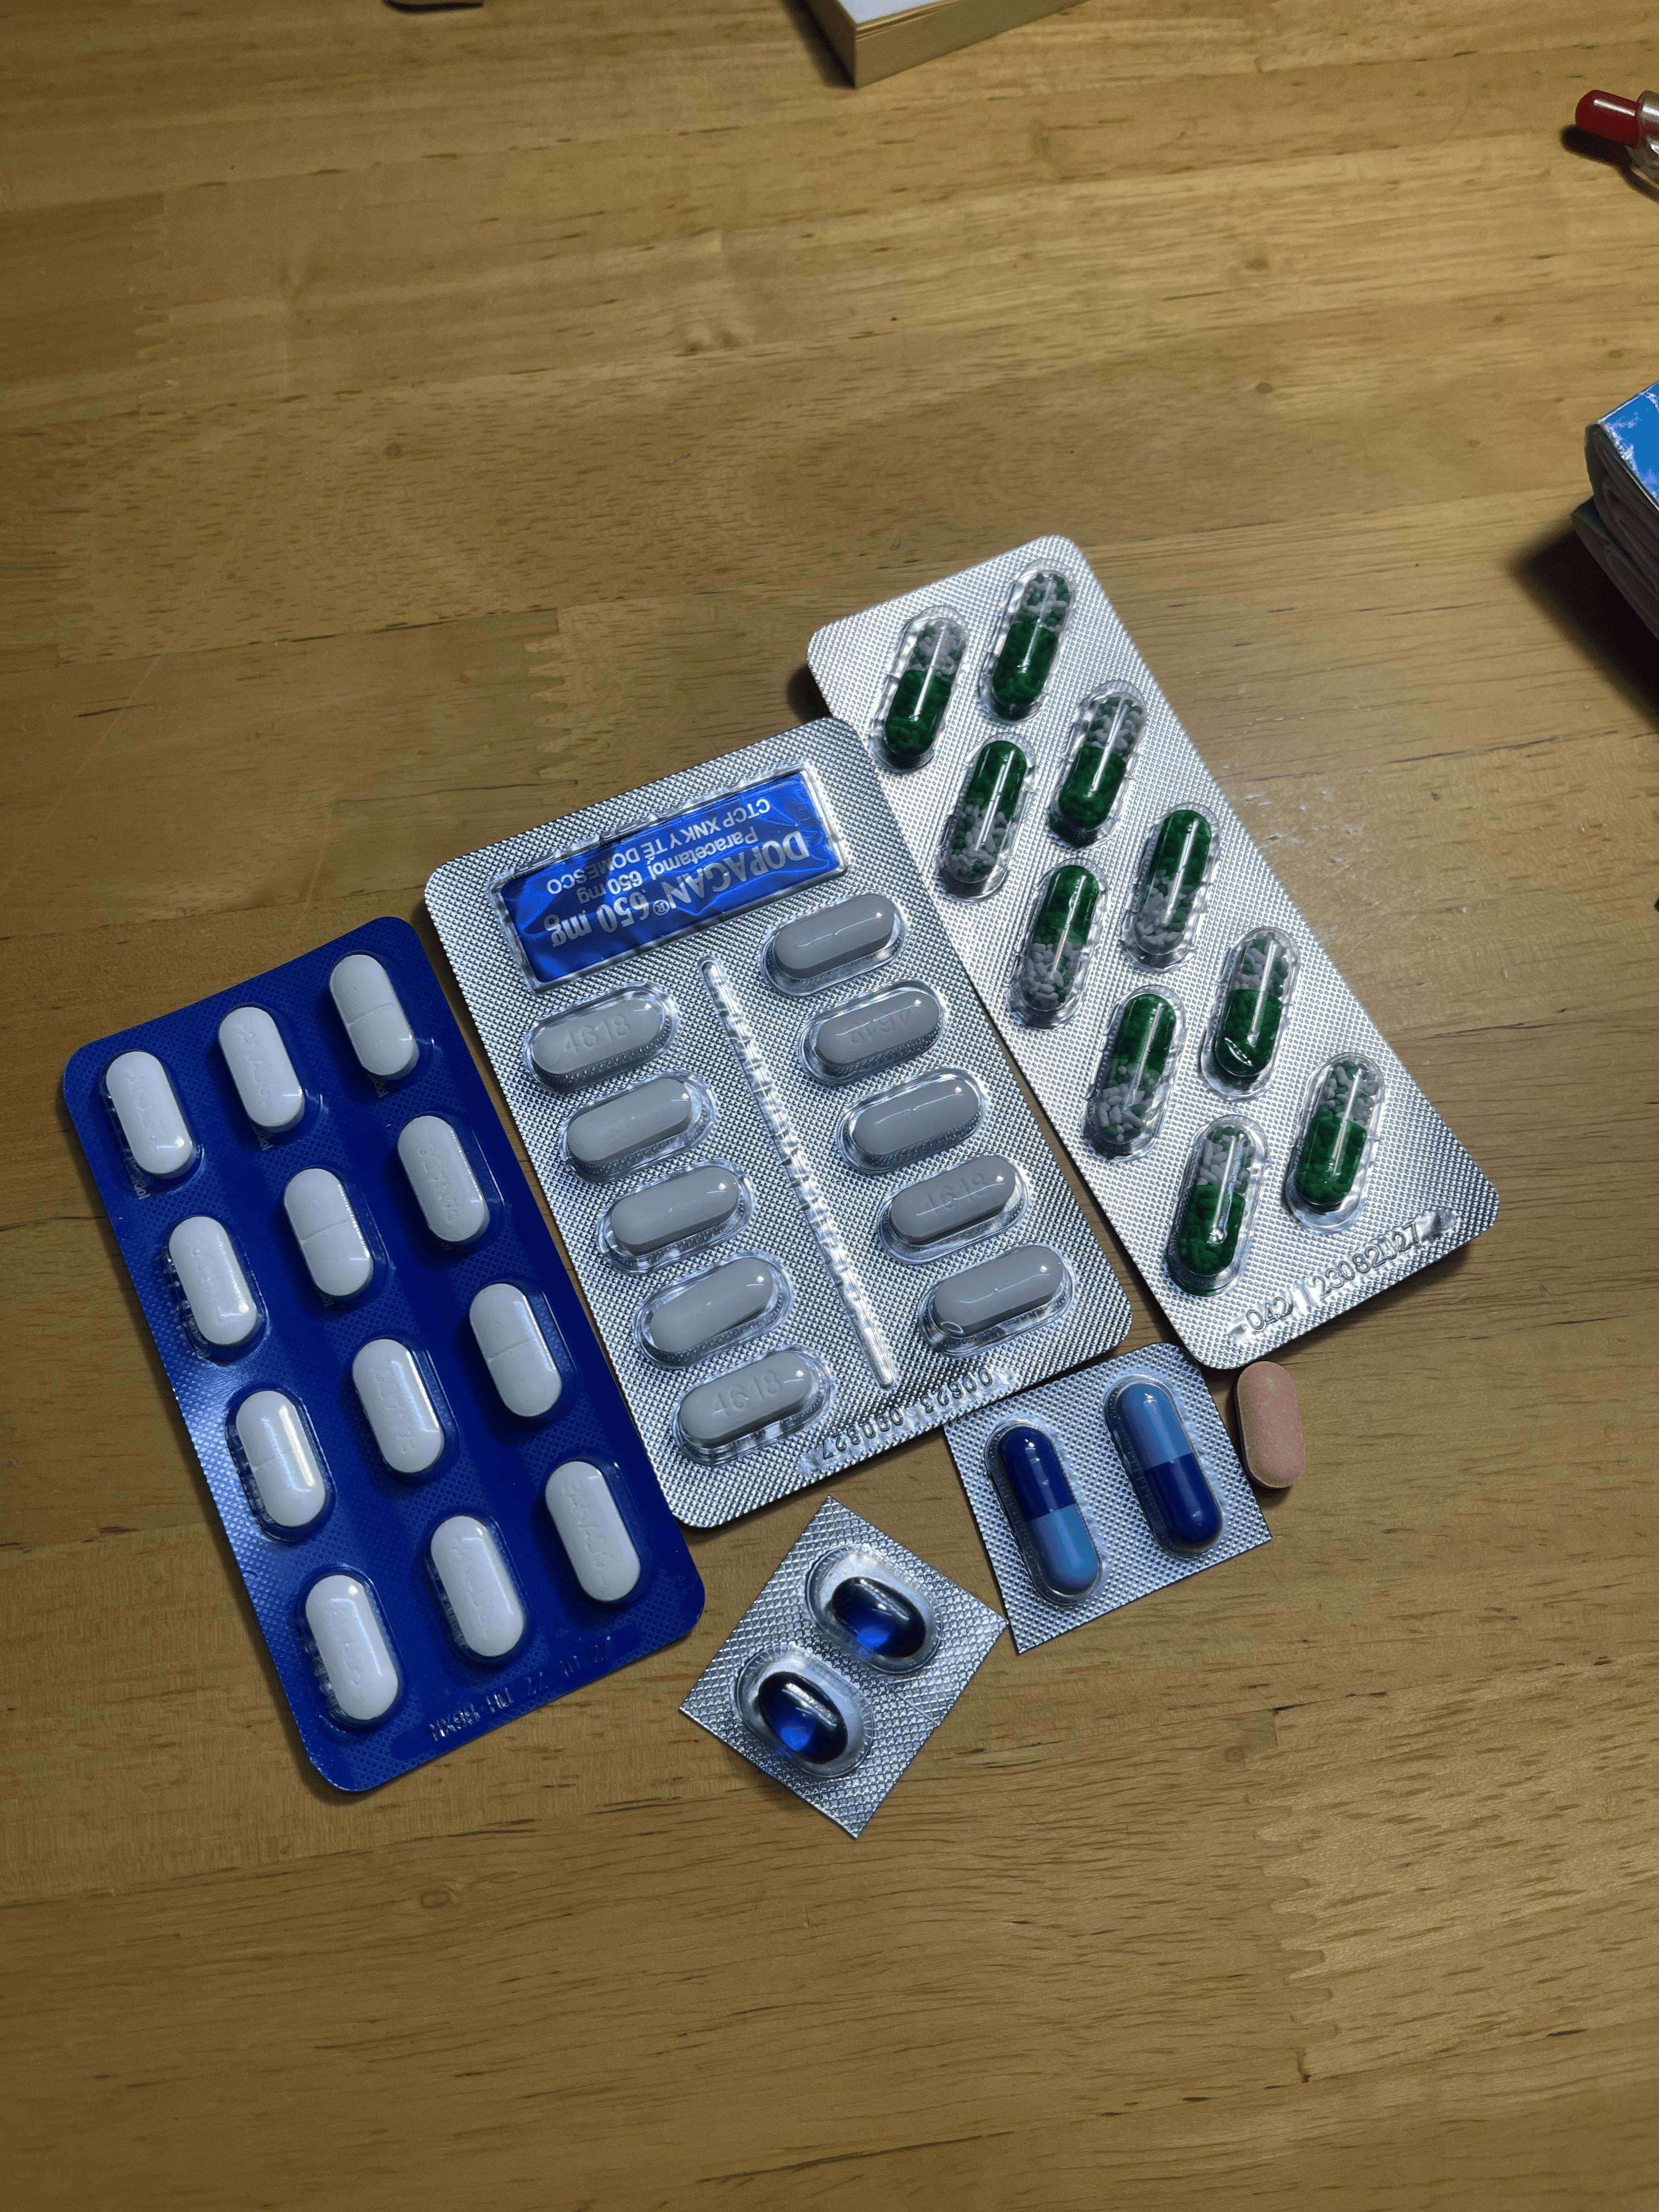Lincomyxin_500mg: (755, 1672, 849, 1759), (830, 1575, 925, 1655)
Loratadine_10mg: (1236, 1362, 1304, 1486)
Paracetamol_350mg: (300, 1569, 403, 1730), (423, 1512, 528, 1667), (227, 1386, 331, 1538), (540, 1458, 643, 1609), (349, 1336, 450, 1480), (162, 1212, 263, 1355), (467, 1282, 565, 1421), (281, 1165, 378, 1305), (101, 1049, 199, 1184), (396, 1115, 493, 1249), (216, 1005, 308, 1137), (328, 953, 422, 1082)
Paracetamol_500mg: (519, 977, 680, 1090), (596, 1151, 749, 1268), (638, 1251, 788, 1364), (678, 1348, 828, 1460), (875, 1151, 1028, 1258), (796, 979, 950, 1085), (843, 1075, 992, 1179), (563, 1076, 704, 1179), (927, 1247, 1068, 1345), (762, 895, 896, 993)
Paracetamol_650mg: (1166, 1116, 1262, 1291), (1284, 1052, 1382, 1216), (1084, 991, 1180, 1155), (1049, 688, 1148, 845), (936, 738, 1032, 897), (983, 563, 1077, 719), (1206, 923, 1297, 1085), (1012, 864, 1103, 1022), (1126, 808, 1216, 965), (877, 611, 965, 765)
pill: (1110, 1381, 1220, 1547), (995, 1425, 1101, 1594)
